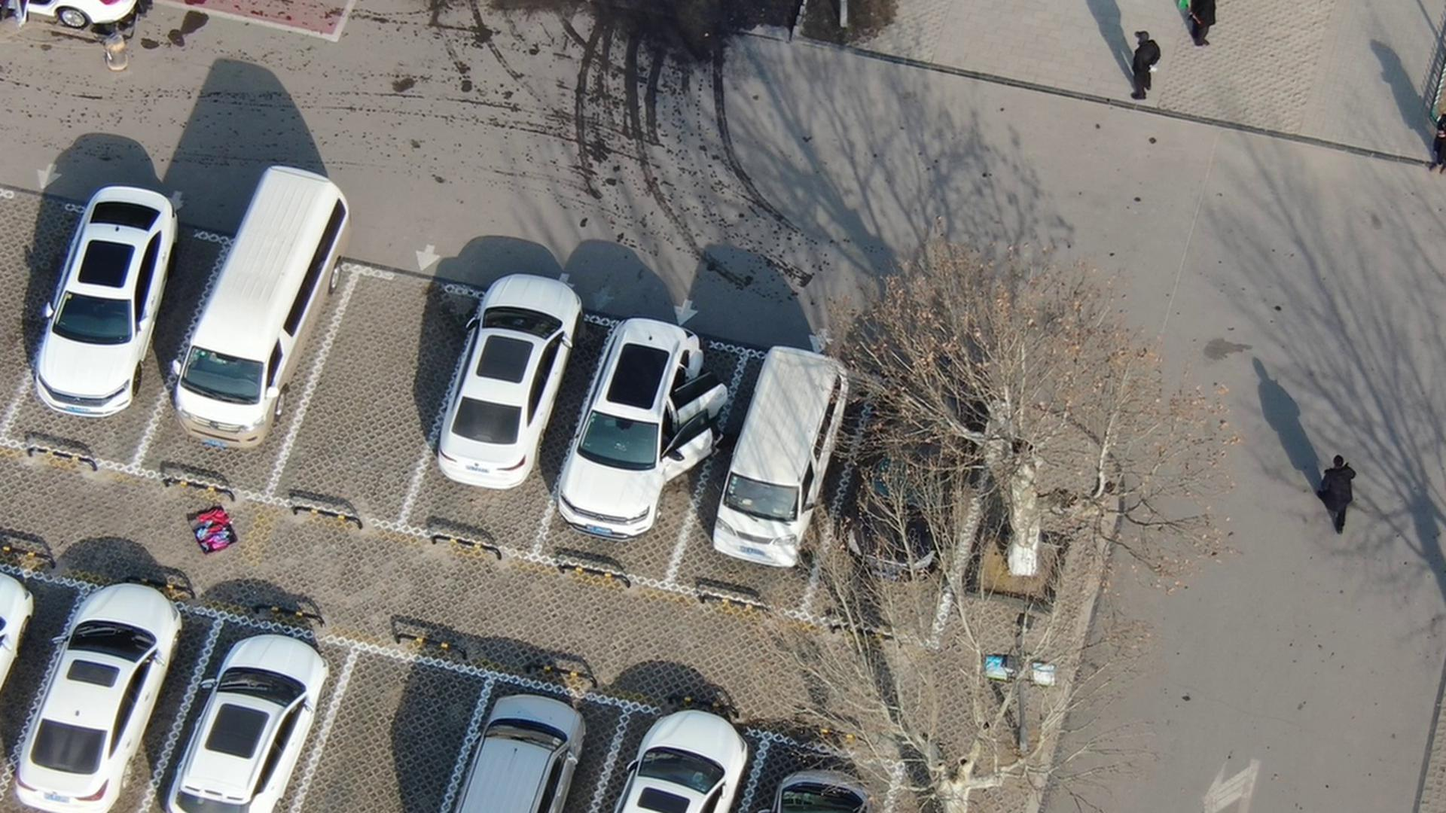human: (1307, 449, 1360, 540), (1122, 23, 1164, 104), (1174, 1, 1222, 56), (1419, 108, 1446, 194)
